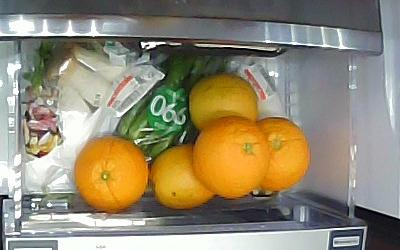orange: (193, 118, 269, 199), (74, 135, 147, 213), (148, 143, 215, 209), (259, 116, 311, 194), (189, 72, 260, 127)
